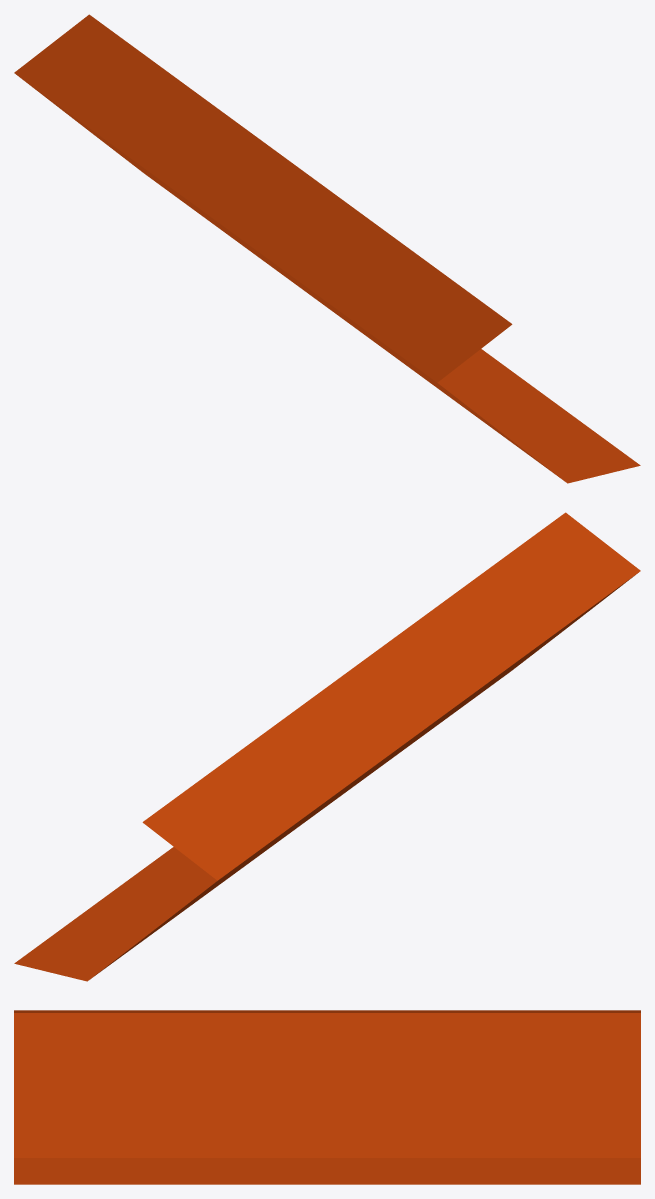
File: way construct top cap.FBX
3 views of the same model, one above another, from view 1: azimuth 30°, elevation 25°; view 2: azimuth 150°, elevation 25°; view 3: azimuth 270°, elevation 25° (orthographic). The views are drawn at different scales.
Visible parts, largest first — view 1: Object1221286; view 2: Object1221286; view 3: Object1221286.
Boxes of the visible parts, box(x1,y1,x2,y2) form: Object1221286: box(14, 14, 640, 483); Object1221286: box(14, 512, 640, 981); Object1221286: box(14, 1010, 640, 1184).
Size of the model in its own units: 1.11 by 0.9 by 4.
